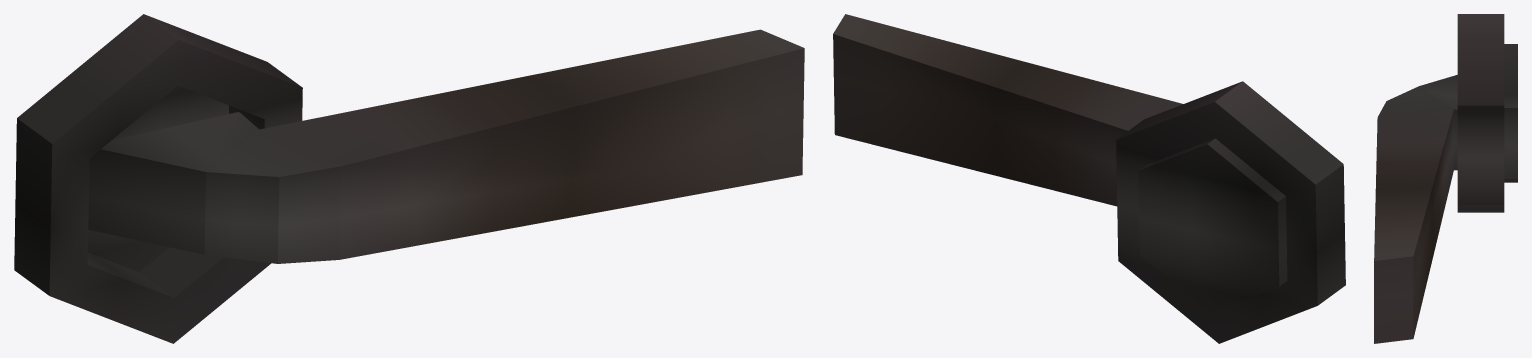
File: wooden_door_knob.glb
The picture shows the model from 3 angles, left to right: view 1: azimuth 30°, elevation 25°; view 2: azimuth 150°, elevation 25°; view 3: azimuth 270°, elevation 25°; orthographic projection. The views are drawn at different scales.
Parts seen in each view (by area): view 1: Door Handle.006; view 2: Door Handle.006; view 3: Door Handle.006.
Part boxes in pixels (x1,y1,x2,y2): Door Handle.006: [14, 14, 804, 343]; Door Handle.006: [833, 14, 1345, 343]; Door Handle.006: [1374, 14, 1517, 343].
Size of the model in its own units: 0.2138 by 0.0894 by 0.0582.
Materials: 1 (1 with a texture image).
